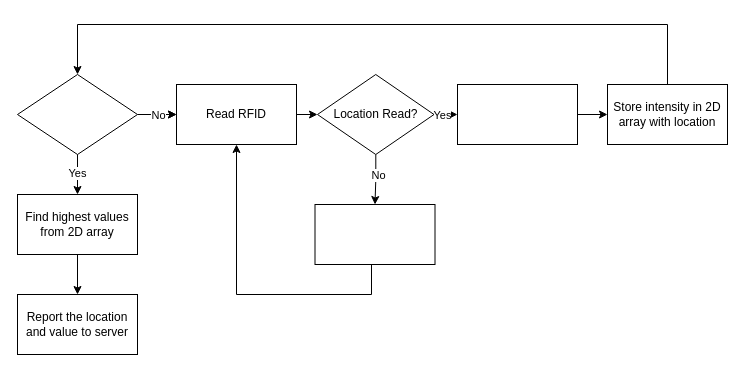
This 745x372 diagram has some shape labels left out. Each missing label, with the centre of its shape:
"In Base?" goes at [77,114].
"Move robot" goes at [374,234].
"Read Solar Panel" goes at [517,114].
